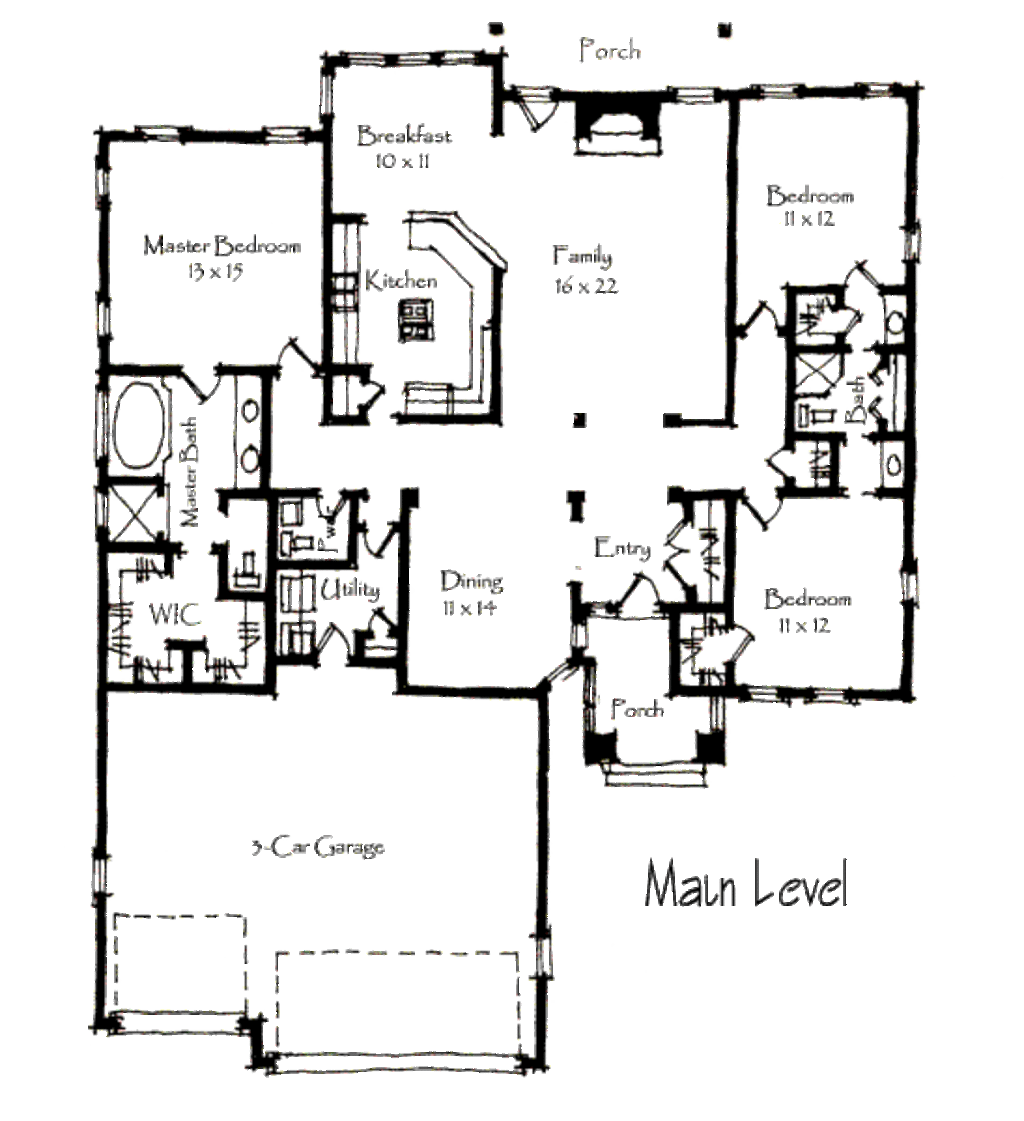door: (497, 66, 558, 151), (268, 332, 332, 385), (658, 515, 697, 596), (170, 352, 227, 404), (830, 244, 880, 301), (609, 561, 654, 623), (718, 621, 761, 677), (351, 518, 402, 565), (732, 492, 775, 540), (737, 294, 780, 342), (309, 616, 354, 661), (308, 483, 346, 530), (770, 440, 804, 490), (363, 371, 389, 415)
large_sink: (227, 542, 273, 602), (784, 390, 839, 430)
small_sink: (234, 378, 268, 483), (871, 442, 909, 492), (877, 290, 906, 354)
tub: (99, 368, 171, 490)
twin_sink: (321, 270, 370, 325)
window: (520, 921, 571, 982), (323, 52, 485, 71), (890, 549, 932, 618), (84, 847, 147, 890), (85, 283, 125, 349), (80, 159, 121, 223), (816, 677, 854, 716), (739, 682, 794, 708)
